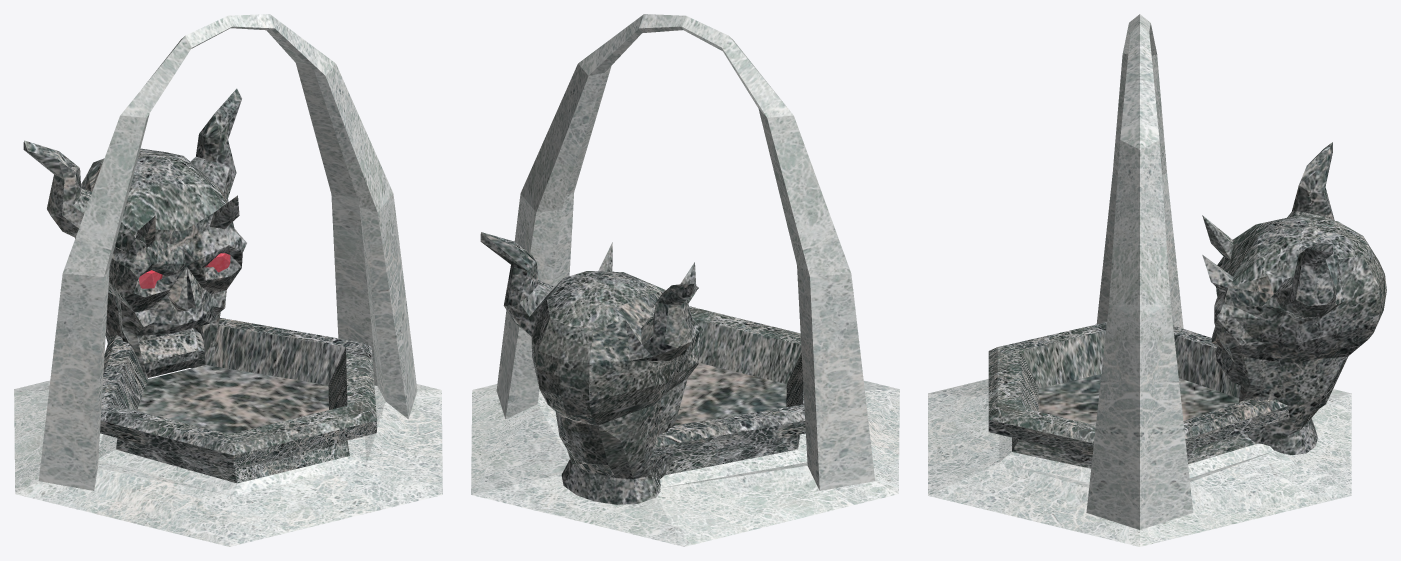
The model's file is tempel_house_GEO_01.fbx.
3 views of the same model, side by side, from view 1: azimuth 30°, elevation 25°; view 2: azimuth 150°, elevation 25°; view 3: azimuth 270°, elevation 25° (orthographic).
Visible parts, largest first — view 1: temple_HQ_GEO_01; view 2: temple_HQ_GEO_01; view 3: temple_HQ_GEO_01.
Part boxes in pixels (x1,y1,x2,y2): temple_HQ_GEO_01: (14, 14, 442, 546); temple_HQ_GEO_01: (471, 14, 899, 546); temple_HQ_GEO_01: (928, 14, 1386, 546).
Size of the model in its own units: 2 by 1.91 by 1.9.
3 materials, 3 textured.
